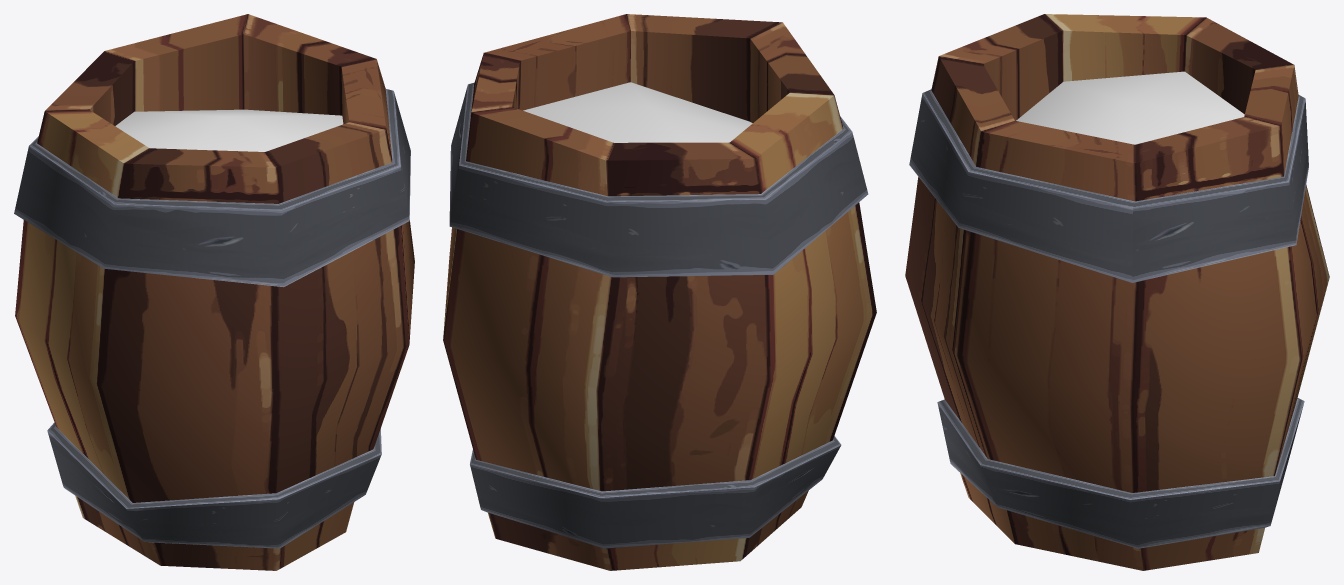
File: SM_PROP_barrel_03.fbx
3 views of the same model, side by side, from view 1: azimuth 30°, elevation 25°; view 2: azimuth 150°, elevation 25°; view 3: azimuth 270°, elevation 25° (orthographic). The views are drawn at different scales.
Visible parts, largest first — view 1: SM_PROP_barrel_03; view 2: SM_PROP_barrel_03; view 3: SM_PROP_barrel_03.
Boxes of the visible parts, left/top/right/bottom form: SM_PROP_barrel_03: left=14, top=14, right=414, bottom=570; SM_PROP_barrel_03: left=443, top=14, right=876, bottom=570; SM_PROP_barrel_03: left=905, top=14, right=1329, bottom=570.
Size of the model in its own units: 77.06 by 84.39 by 74.86.
